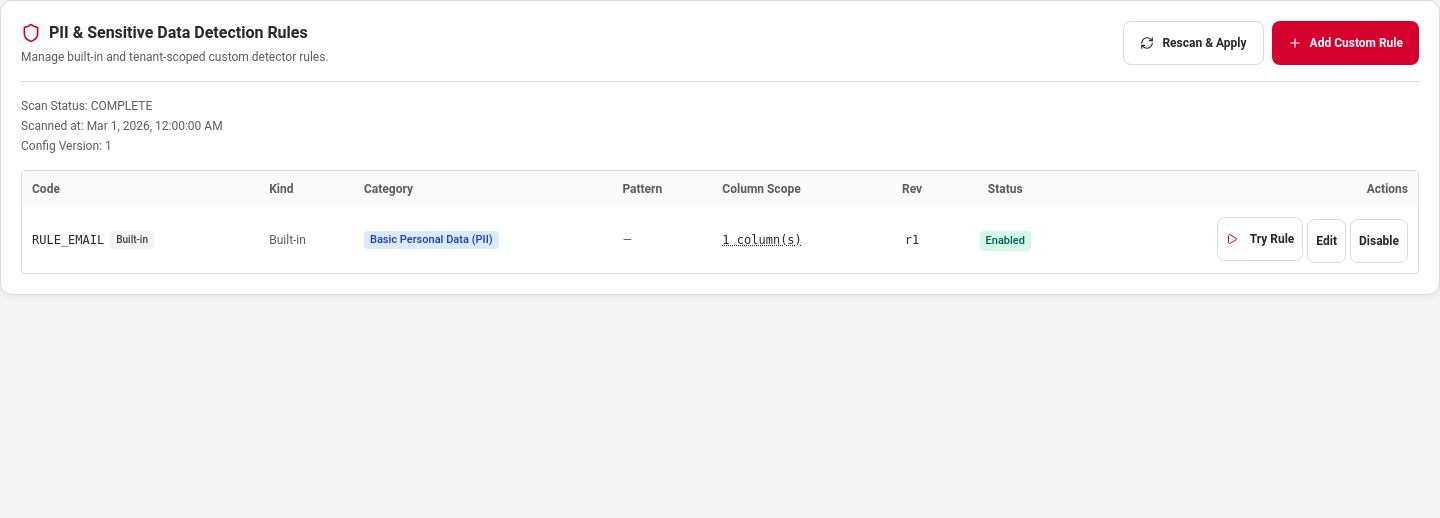
Test: runs PREVIEW scan and displays non-mutating preview findings table
This screenshot has width=1440, height=518.
Expected: the text "RULE_EMAIL" is shown, [32,232,104,248]
Click the button "Try Rule". click: point(1260, 239)
box: [1217,217,1303,261]
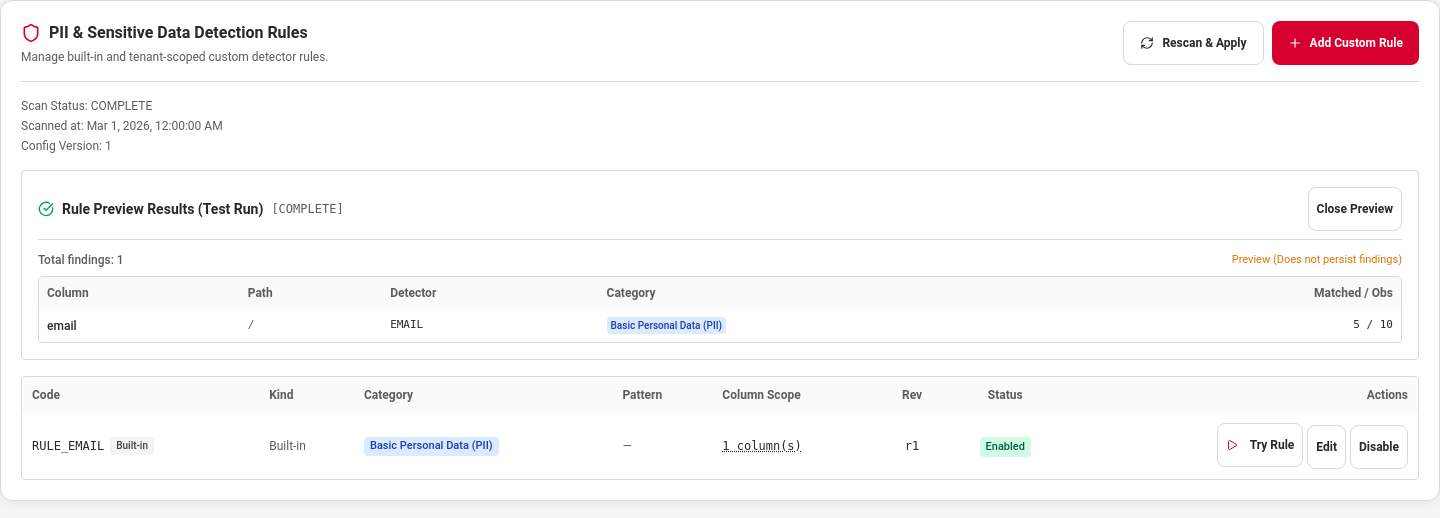
Now the heading "Rule Preview Results (Test Run)" is shown, box [62,199,263,219]
Now the text "Preview (Does not persist findings)" is shown, box [1232,253,1402,267]
Now the text "[COMPLETE]" is shown, box [271,201,344,217]
